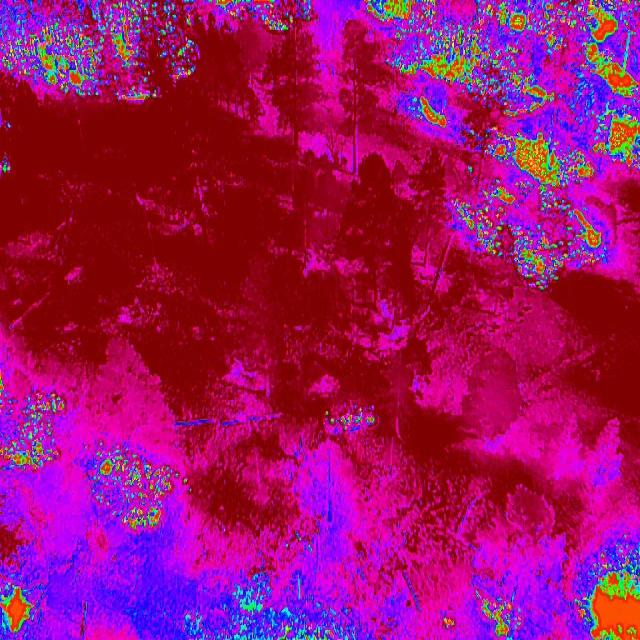fire: (363, 0, 640, 81), (0, 0, 203, 101), (412, 82, 640, 143), (456, 178, 610, 262), (186, 579, 371, 640), (88, 446, 186, 532), (0, 378, 70, 470), (484, 143, 640, 179), (580, 550, 640, 640), (210, 0, 314, 31), (0, 576, 41, 638), (469, 595, 523, 640), (516, 261, 565, 294)
